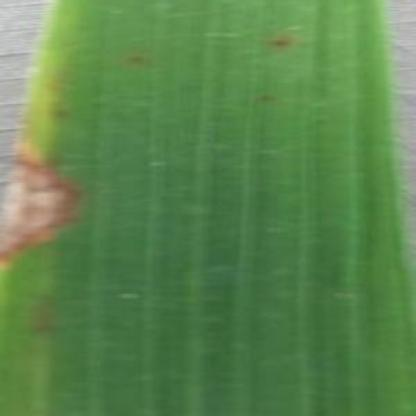Rice blast: (1, 145, 87, 287)
